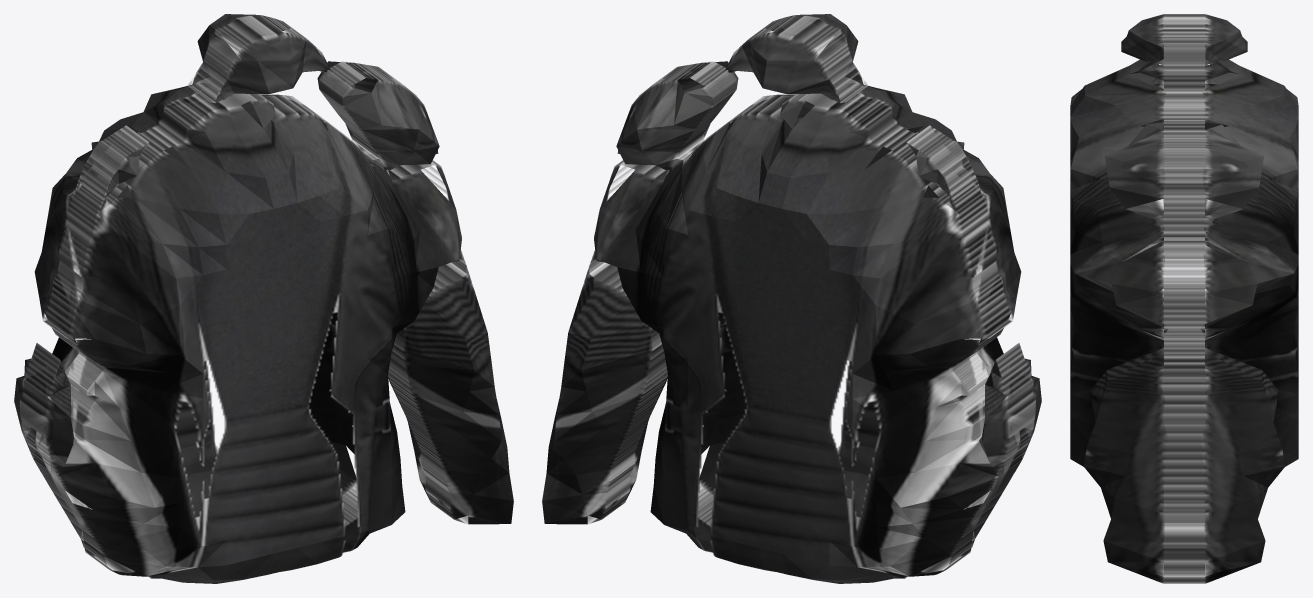
The model's file is rev-it-apex-leather-jacket-001.glb.
3 renders of one model, left to right at view 1: azimuth 30°, elevation 25°; view 2: azimuth 150°, elevation 25°; view 3: azimuth 270°, elevation 25°, orthographic. The views are drawn at different scales.
Parts seen in each view (by area): view 1: world; view 2: world; view 3: world.
Part boxes in pixels (left/top/right/bottom): world: left=14, top=14, right=513, bottom=583; world: left=542, top=14, right=1041, bottom=583; world: left=1070, top=14, right=1298, bottom=583.
Bounding box in the file's own units: 0.8963 × 1 × 0.44.
1 material, 1 textured.
